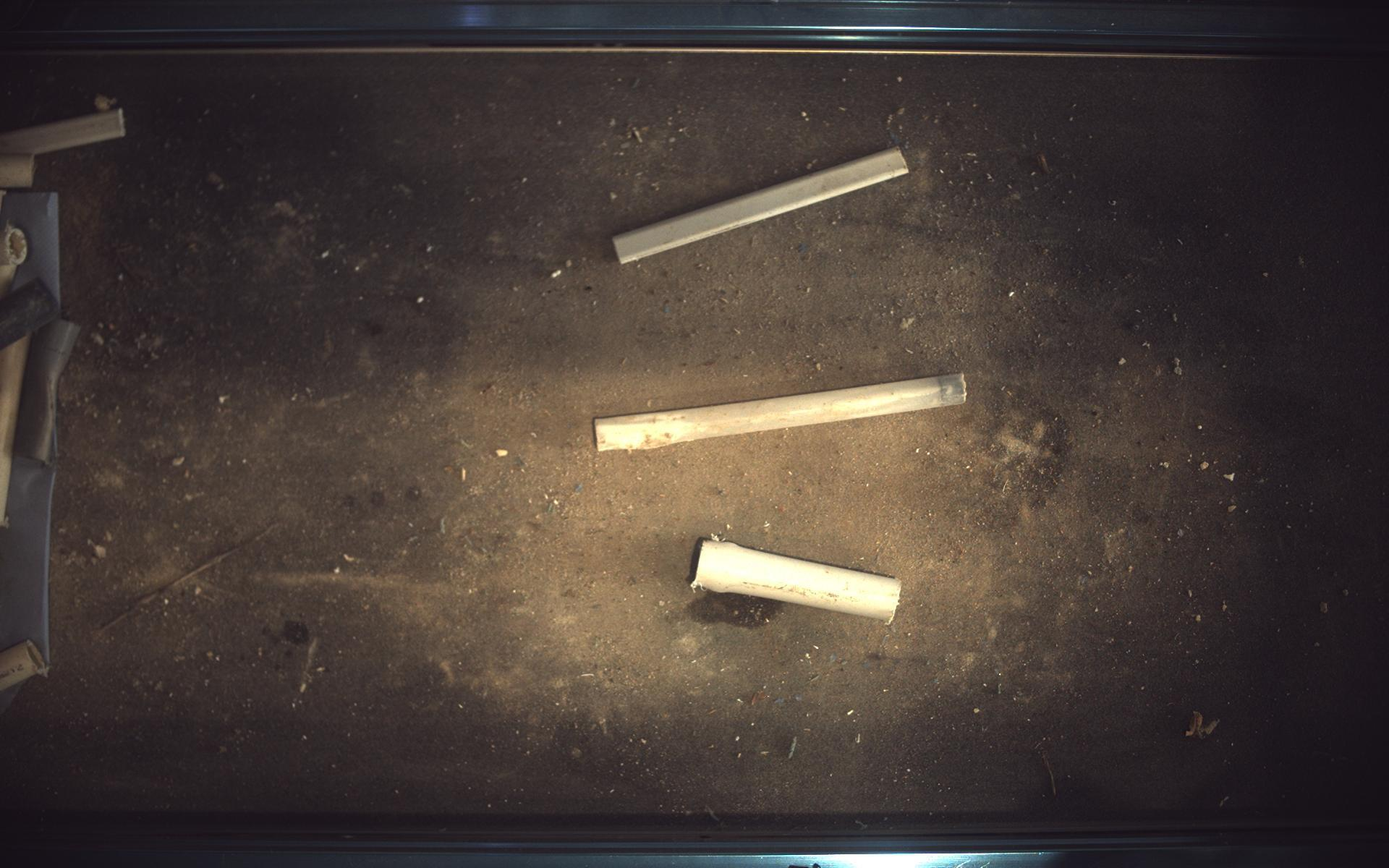pipes: (595, 373, 969, 451), (692, 540, 903, 624)
